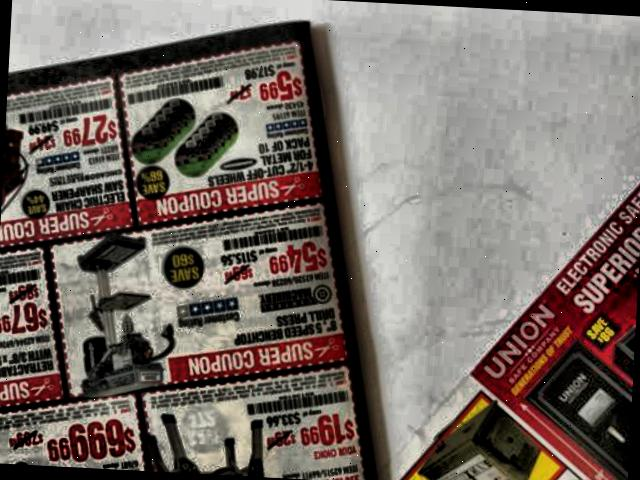Paper: (0, 2, 400, 480), (395, 164, 640, 480)
